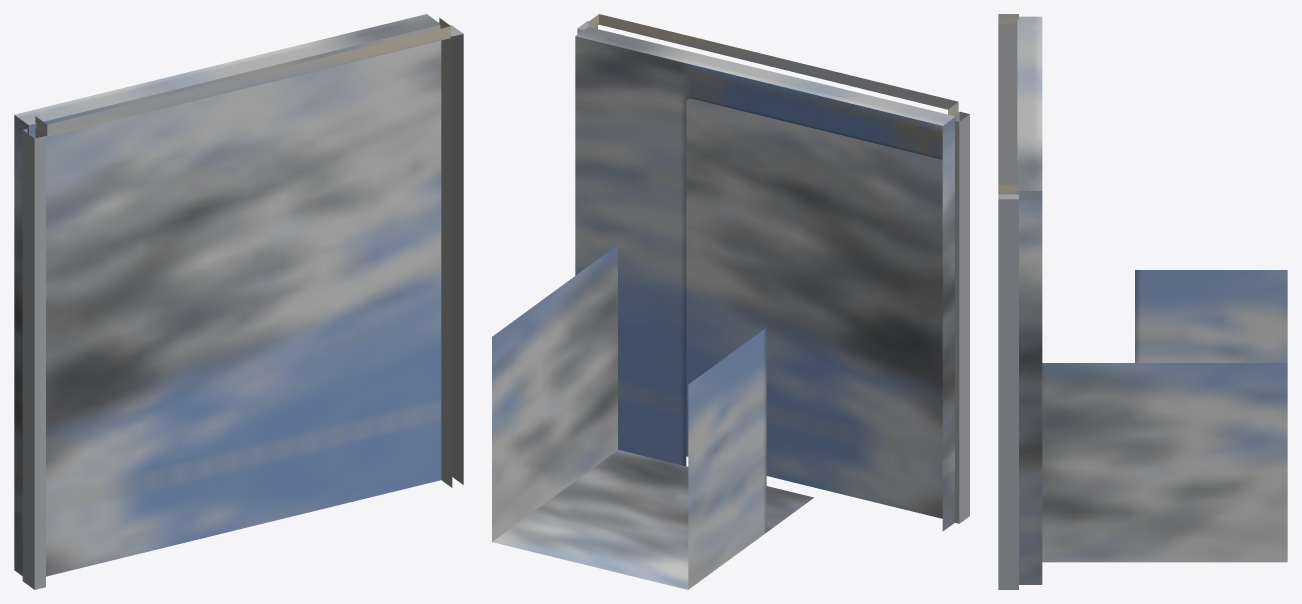
Rendered from section-2.obj.
3 views of the same model, side by side, from view 1: azimuth 30°, elevation 25°; view 2: azimuth 150°, elevation 25°; view 3: azimuth 270°, elevation 25° (orthographic). The views are drawn at different scales.
Bounding box in the file's own units: 1.01 × 1.04 × 0.6809.
